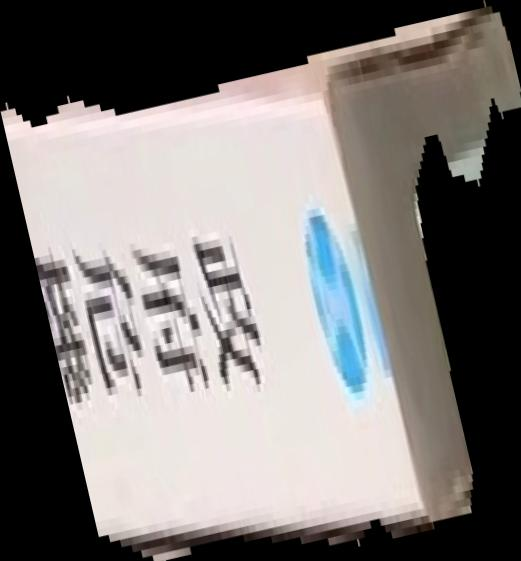flat: (1, 1, 521, 561)
